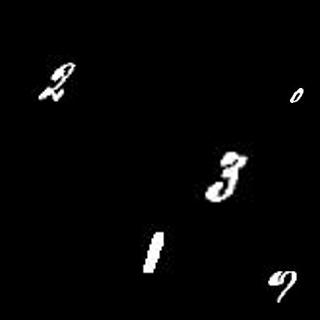nine: (268, 269, 300, 304)
one: (142, 227, 162, 276)
three: (197, 152, 249, 207)
two: (37, 54, 82, 102)
zero: (286, 86, 309, 104)
